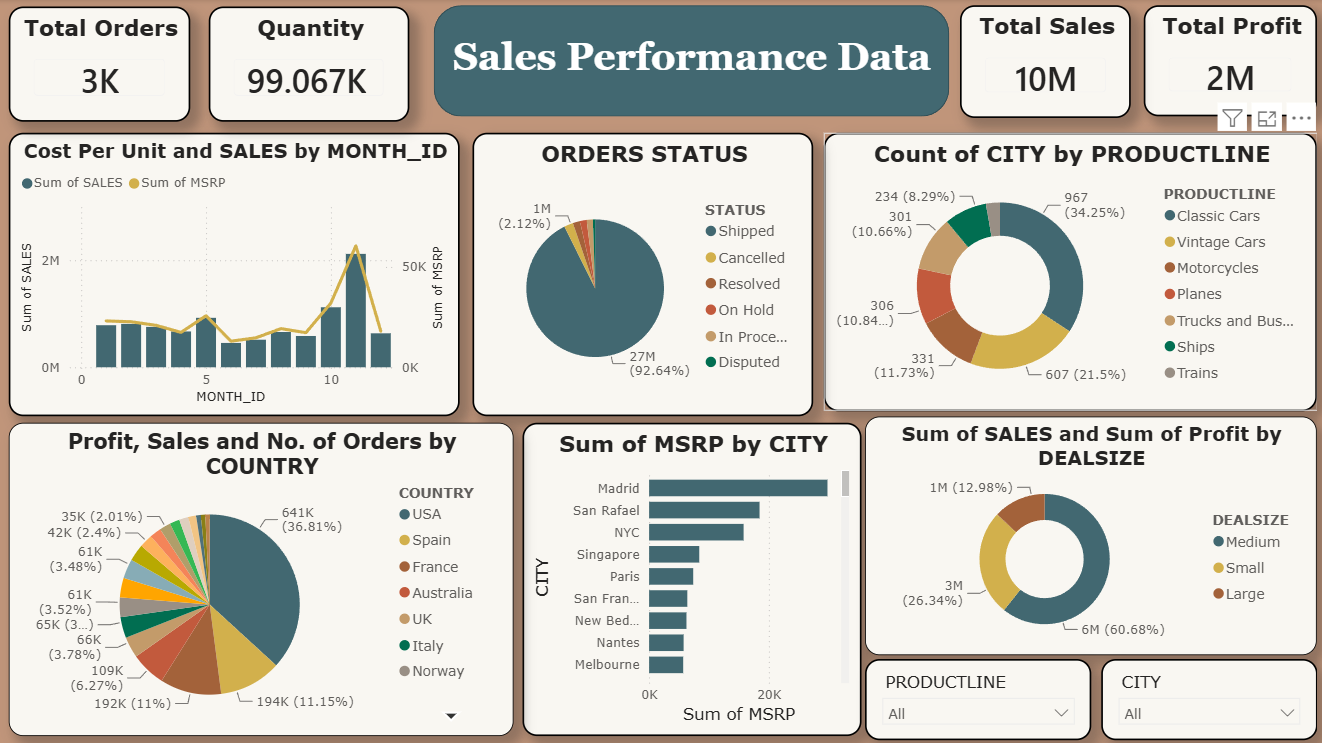

What the dashboard file says about the page in this screenshot:
{"tool":"powerbi","page":{"name":"Page 1","canvas":[1280,720],"ordinal":0},"visuals":[{"type":"lineClusteredColumnComboChart","title":"Cost Per Unit and SALES by MONTH_ID","fields":{"Category":["sales_data_sample_state_filled (2).MONTH_ID"],"Y":["Sum(sales_data_sample_state_filled (2).SALES)"],"Y2":["Sum(sales_data_sample_state_filled (2).MSRP)"]},"box":[8.8,128.8,435,273.8],"z":0},{"type":"cardVisual","title":"Total Orders","fields":{"Data":["sales_data_sample_state_filled (2).Total Orders"]},"box":[8.8,7.5,175,111.2],"z":1000},{"type":"cardVisual","title":"Average Order Value","fields":{"Data":["sales_data_sample_state_filled (2).Avg Order Value"]},"box":[835,173.8,247.5,111.2],"z":2000},{"type":"cardVisual","title":"Total Profit","fields":{"Data":["sales_data_sample_state_filled (2).Total Profit"]},"box":[1103.8,6.2,167.5,107.5],"z":3000},{"type":"cardVisual","title":"Quantity","fields":{"Data":["sales_data_sample_state_filled (2).Total Qty"]},"box":[201.2,7.5,193.8,111.2],"z":4000},{"type":"cardVisual","title":"Total Sales","fields":{"Data":["sales_data_sample_state_filled (2).Total Sales"]},"box":[926.2,6.2,165,108.8],"z":5000},{"type":"donutChart","fields":{"Category":["sales_data_sample_state_filled (2).PRODUCTLINE"],"Y":["CountNonNull(sales_data_sample_state_filled (2).COUNTRY Hierarchy.CITY)"]},"box":[795,128.8,476.2,268.8],"z":6000},{"type":"pieChart","title":"ORDERS STATUS","fields":{"Category":["sales_data_sample_state_filled (2).STATUS"],"Y":["Sum(sales_data_sample_state_filled (2).ORDERNUMBER)"]},"box":[456.2,128.8,328.8,273.8],"z":7000},{"type":"clusteredBarChart","fields":{"Category":["sales_data_sample_state_filled (2).CITY"],"Y":["Sum(sales_data_sample_state_filled (2).MSRP)"]},"box":[503.8,408.8,327.5,302.5],"z":8000},{"type":"pieChart","title":"Profit, Sales and No. of Orders by COUNTRY","fields":{"Category":["sales_data_sample_state_filled (2).COUNTRY"],"Y":["sales_data_sample_state_filled (2).Total Profit"]},"box":[8.8,408.8,487.5,302.5],"z":9000},{"type":"shape","box":[418.8,6.2,497.5,107.5],"z":10000},{"type":"donutChart","fields":{"Category":["sales_data_sample_state_filled (2).DEALSIZE"],"Y":["Sum(sales_data_sample_state_filled (2).SALES)"]},"box":[835,402.5,436.2,230],"z":11000},{"type":"textbox","box":[426.2,28.8,483.8,65],"z":12000},{"type":"slicer","fields":{"Values":["sales_data_sample_state_filled (2).PRODUCTLINE"]},"box":[835,637.5,218.8,78.8],"z":13000},{"type":"slicer","fields":{"Values":["sales_data_sample_state_filled (2).COUNTRY Hierarchy.CITY"]},"box":[1062.5,637.5,208.8,78.8],"z":14000}]}

Visuals, with their boxes in screenshot pixels (x1, y1, x2, y2), scaled from the page's 1280x720 canvas onto the 1322x743 screenshot:
"Cost Per Unit and SALES by MONTH_ID" lineClusteredColumnComboChart: l=9, t=133, r=458, b=415
"Total Orders" cardVisual: l=9, t=8, r=190, b=122
"Average Order Value" cardVisual: l=862, t=179, r=1118, b=294
"Total Profit" cardVisual: l=1140, t=6, r=1313, b=117
"Quantity" cardVisual: l=208, t=8, r=408, b=122
"Total Sales" cardVisual: l=957, t=6, r=1127, b=119
donutChart - sales_data_sample_state_filled (2).PRODUCTLINE x CountNonNull(sales_data_sample_state_filled (2).COUNTRY Hierarchy.CITY): l=821, t=133, r=1313, b=410
"ORDERS STATUS" pieChart: l=471, t=133, r=811, b=415
clusteredBarChart - sales_data_sample_state_filled (2).CITY x Sum(sales_data_sample_state_filled (2).MSRP): l=520, t=422, r=859, b=734
"Profit, Sales and No. of Orders by COUNTRY" pieChart: l=9, t=422, r=513, b=734
shape: l=433, t=6, r=946, b=117
donutChart - sales_data_sample_state_filled (2).DEALSIZE x Sum(sales_data_sample_state_filled (2).SALES): l=862, t=415, r=1313, b=653
textbox: l=440, t=30, r=940, b=97
slicer - sales_data_sample_state_filled (2).PRODUCTLINE: l=862, t=658, r=1088, b=739
slicer - sales_data_sample_state_filled (2).COUNTRY Hierarchy.CITY: l=1097, t=658, r=1313, b=739
